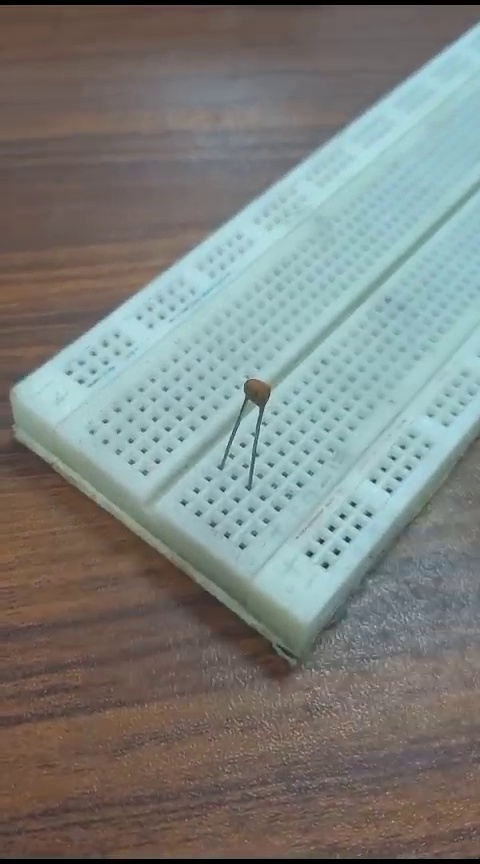ceramic capacitor: (228, 373, 278, 485)
